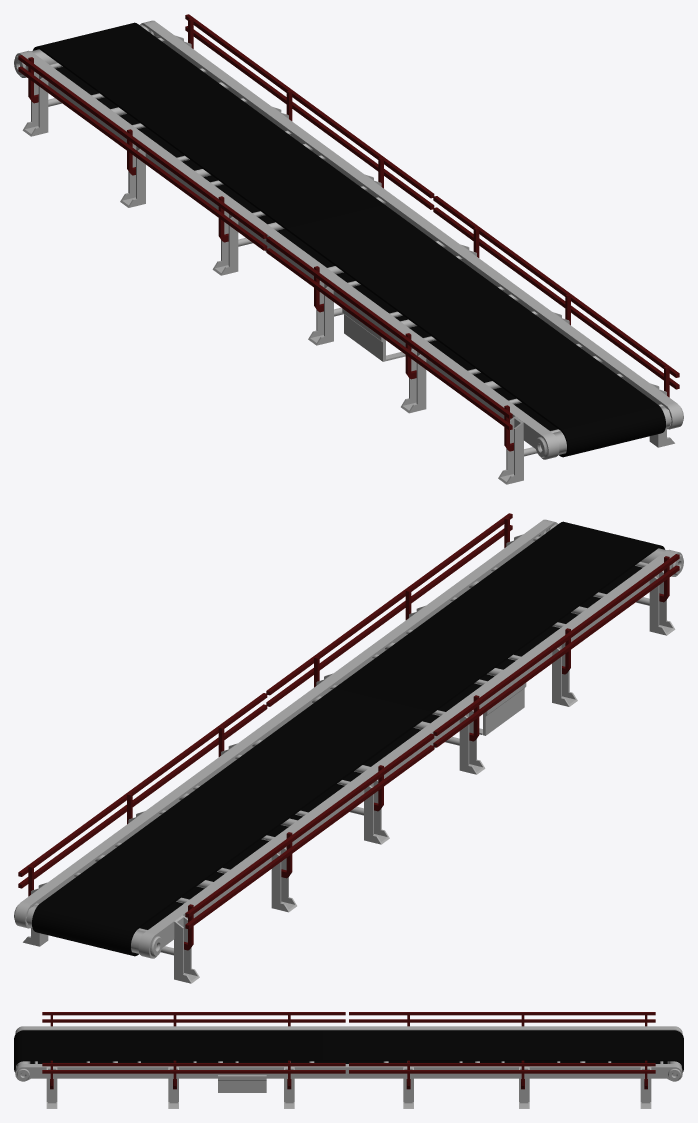
Rendered from SM_ProdLine_transporter_f.FBX.
3 views of the same model, one above another, from view 1: azimuth 30°, elevation 25°; view 2: azimuth 150°, elevation 25°; view 3: azimuth 270°, elevation 25° (orthographic). The views are drawn at different scales.
Parts seen in each view (by area): view 1: SM_ProdLine_transporter_f_LOD0; view 2: SM_ProdLine_transporter_f_LOD0; view 3: SM_ProdLine_transporter_f_LOD0.
Boxes of the visible parts, left/top/right/bottom form: SM_ProdLine_transporter_f_LOD0: left=14, top=14, right=683, bottom=484; SM_ProdLine_transporter_f_LOD0: left=14, top=513, right=683, bottom=983; SM_ProdLine_transporter_f_LOD0: left=14, top=1012, right=683, bottom=1108.
Size of the model in its own units: 151 by 822 by 62.67.
